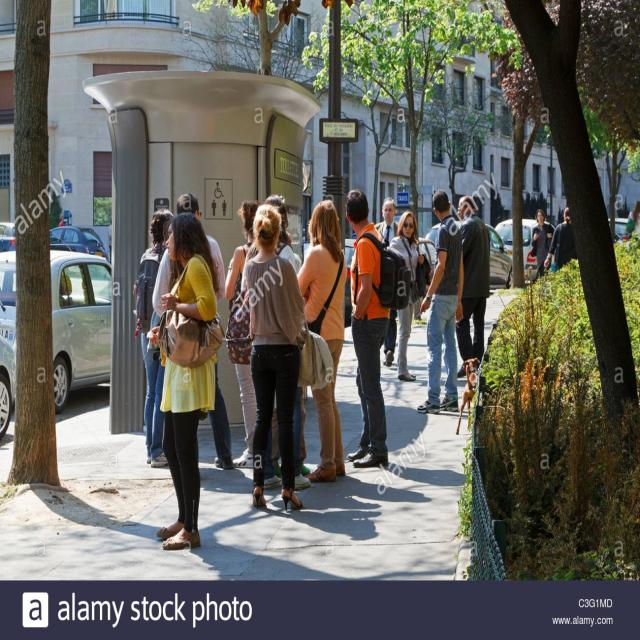body: (242, 200, 336, 516), (145, 210, 226, 554), (150, 192, 237, 471), (343, 184, 414, 471), (241, 192, 299, 482), (296, 198, 348, 484), (131, 207, 176, 470), (415, 186, 465, 416), (222, 198, 264, 469), (268, 231, 312, 481), (385, 207, 433, 383), (453, 194, 492, 380), (374, 196, 400, 366), (542, 206, 578, 273), (530, 208, 556, 279), (627, 198, 640, 224), (107, 219, 112, 265), (59, 212, 64, 226)
